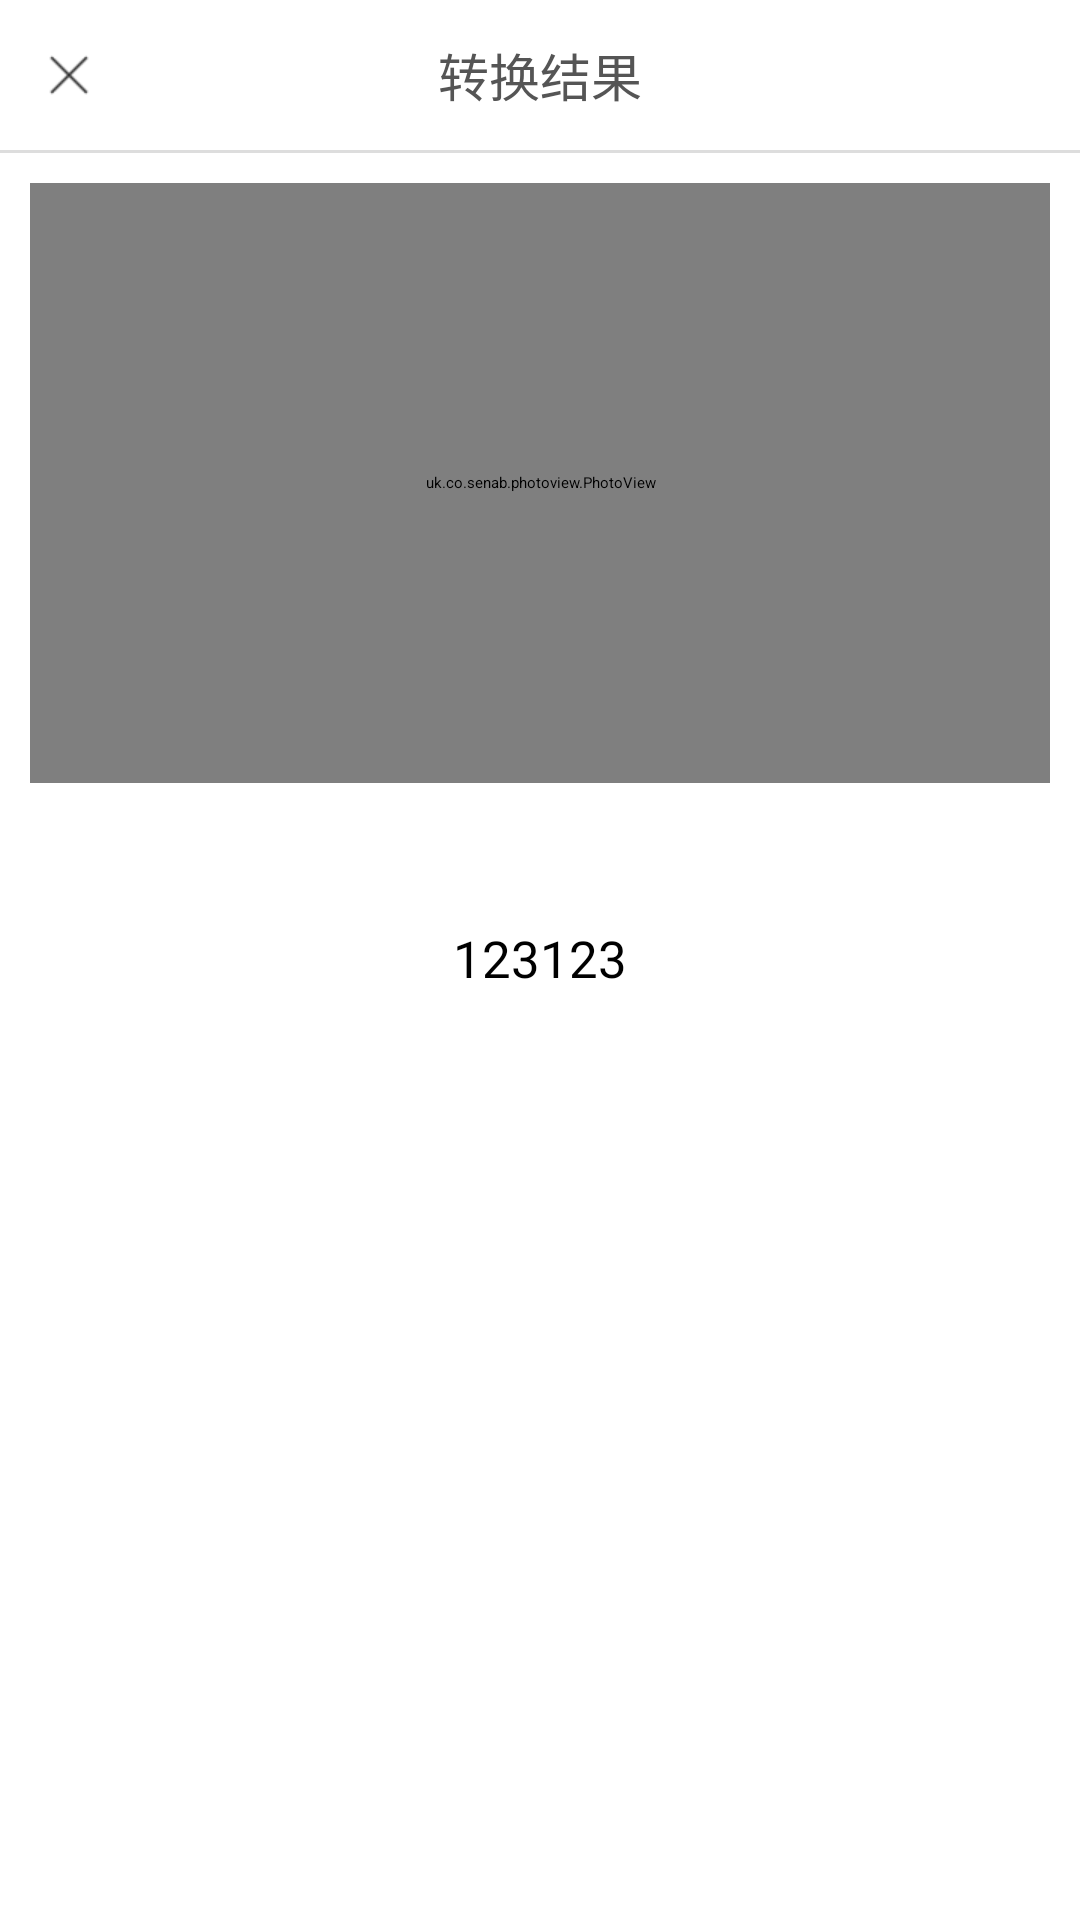

Point at icon controls on the screen. Image size 1080px×1920px, points as (x,y).
close: (69,75)
